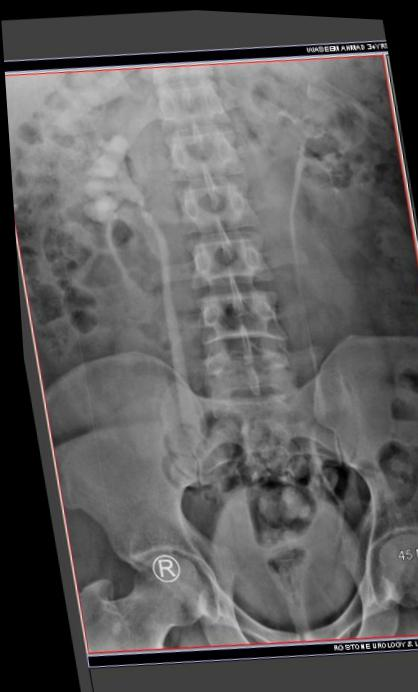bladder: (182, 490, 371, 683)
left kidney: (225, 19, 383, 225)
vertebrae: (148, 89, 236, 160)
